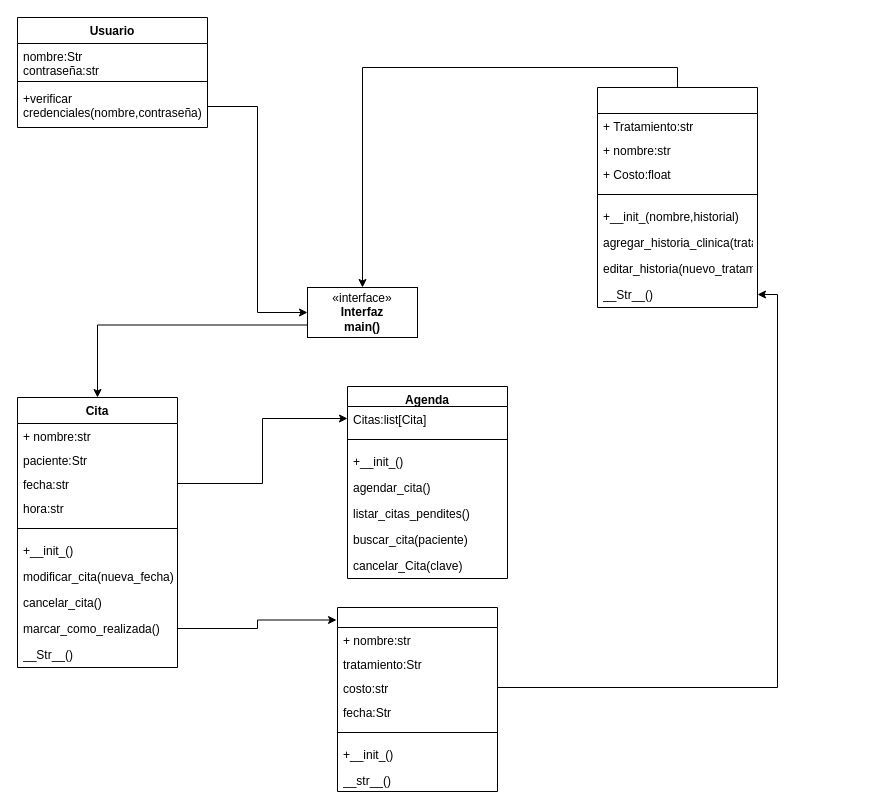
This 879x812 diagram has some shape labels left out. The box of each missing label's shape, as (x1, y1, x2, y2) in pixels:
Historia Clinica: (336, 606, 498, 792)
Paciente: (596, 86, 758, 308)
